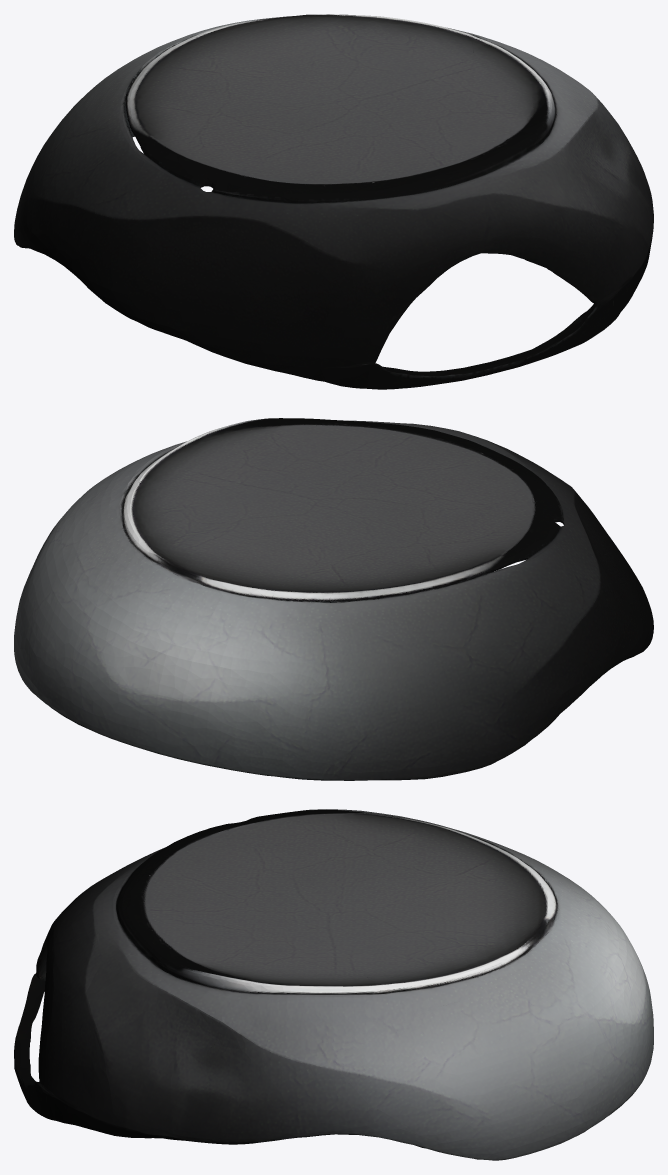
The model's file is clay-portable-speaker-new-style.jpeg.glb.
The picture shows the model from 3 angles, top to bottom: view 1: azimuth 30°, elevation 25°; view 2: azimuth 150°, elevation 25°; view 3: azimuth 270°, elevation 25°; orthographic projection.
Visible parts, largest first — view 1: world; view 2: world; view 3: world.
Boxes of the visible parts, left/top/right/bottom form: world: left=14, top=14, right=653, bottom=389; world: left=14, top=418, right=653, bottom=780; world: left=14, top=809, right=653, bottom=1160.
Bounding box in the file's own units: 1 × 0.2777 × 1.
Materials: 1 (1 with a texture image).
